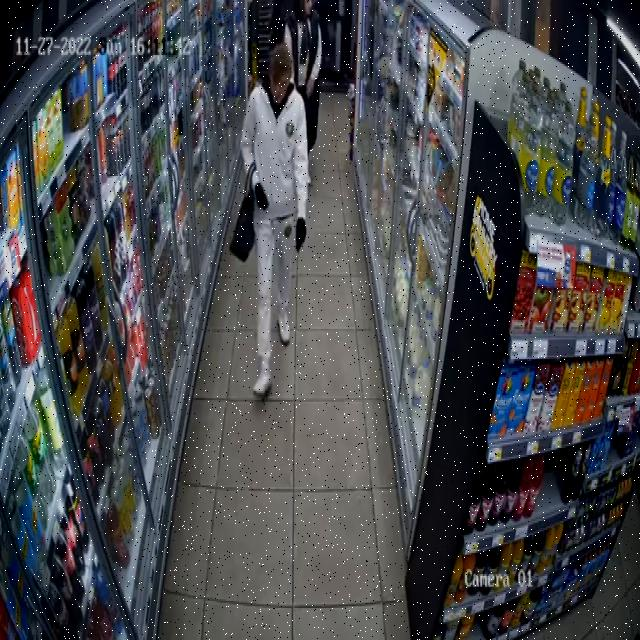bags: (229, 165, 255, 261)
hands: (297, 219, 306, 251), (257, 183, 268, 206)
person: (242, 44, 306, 396), (284, 0, 319, 151)
